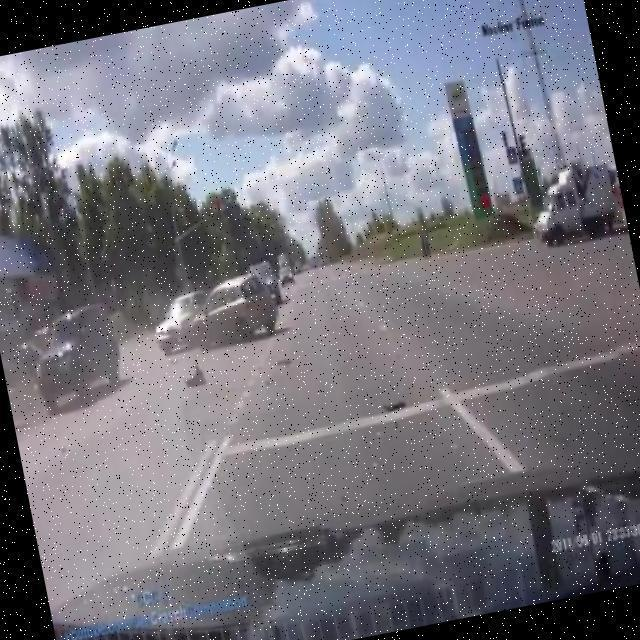accident: (142, 264, 290, 374)
